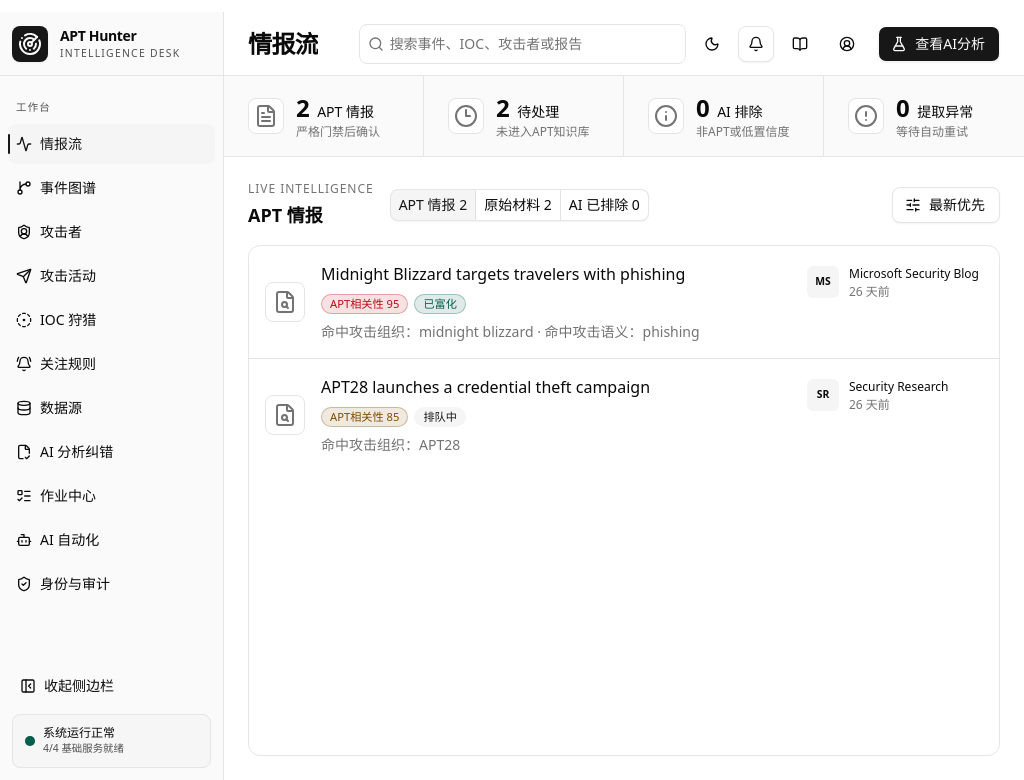
APT Hunter intelligence feed › collapses and expands the desktop sidebar
Step 1. Click the button "收起侧边栏" → (112, 686), box x1=12 y1=666 x2=211 y2=706
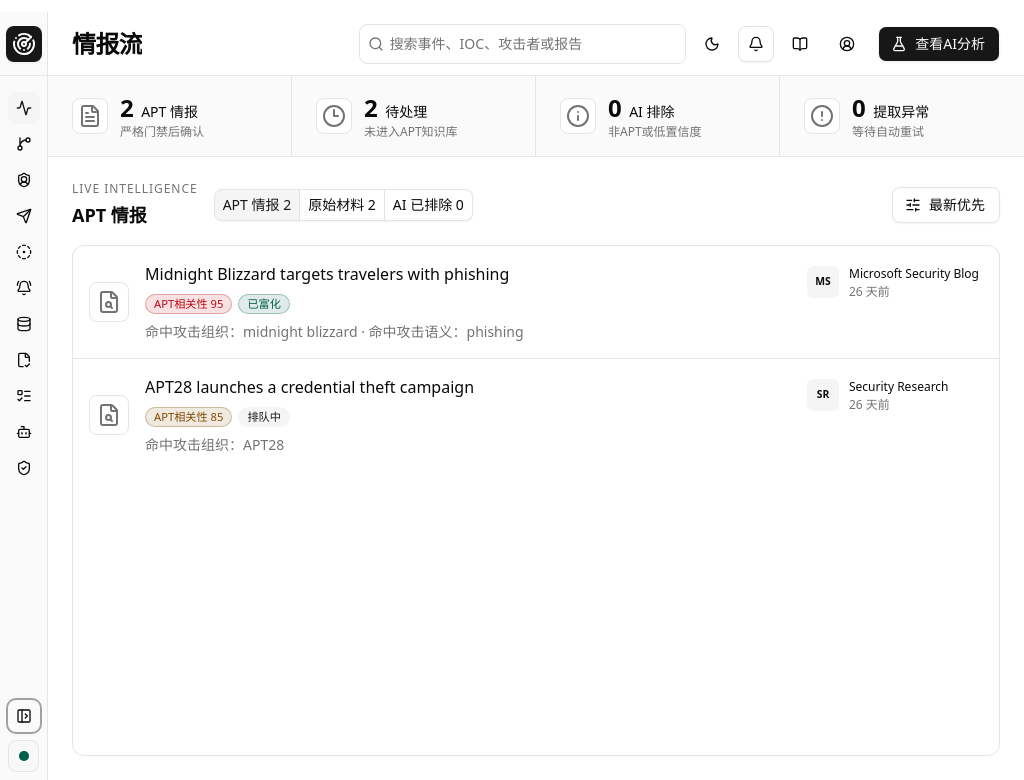
Result: the button named "展开侧边栏" is collapsed
Step 2. Click the button named "展开侧边栏" → (24, 716), box x1=8 y1=700 x2=40 y2=732
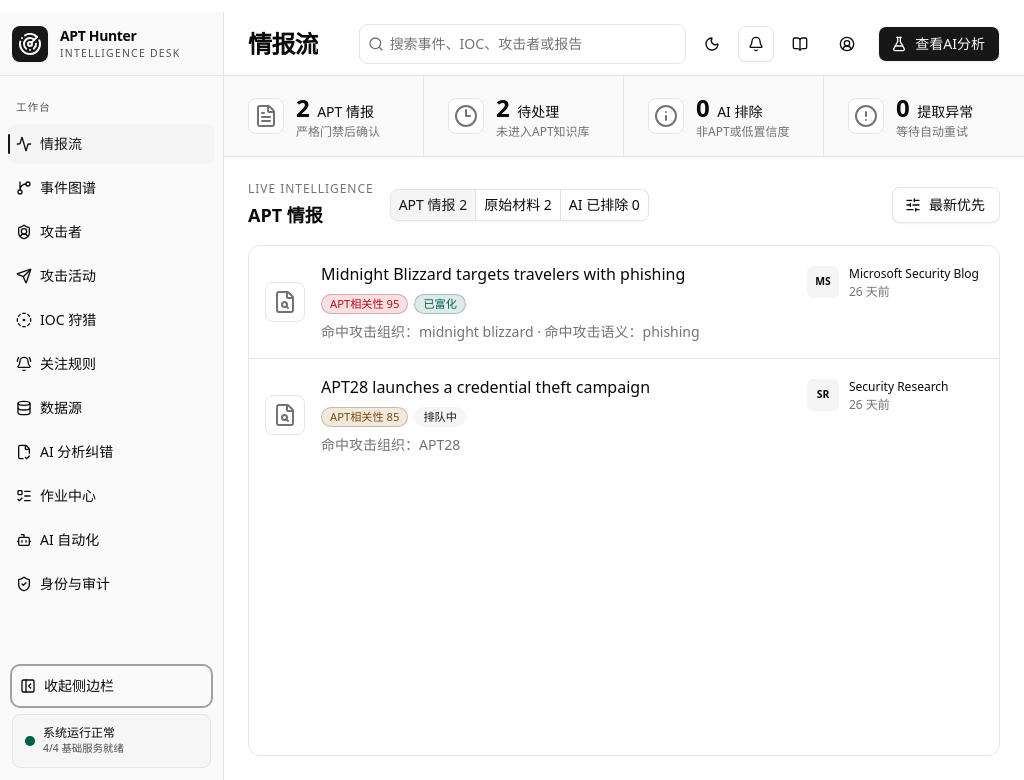
Result: the button "收起侧边栏" is shown at x1=12 y1=666 x2=211 y2=706
